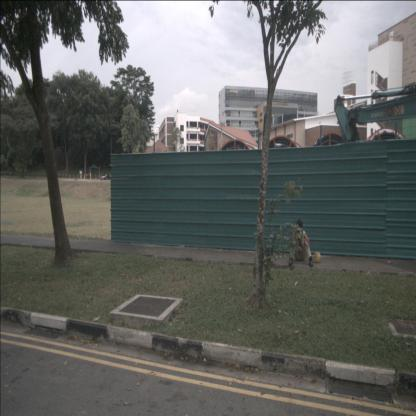vehicle-car: (101, 172, 110, 180)
